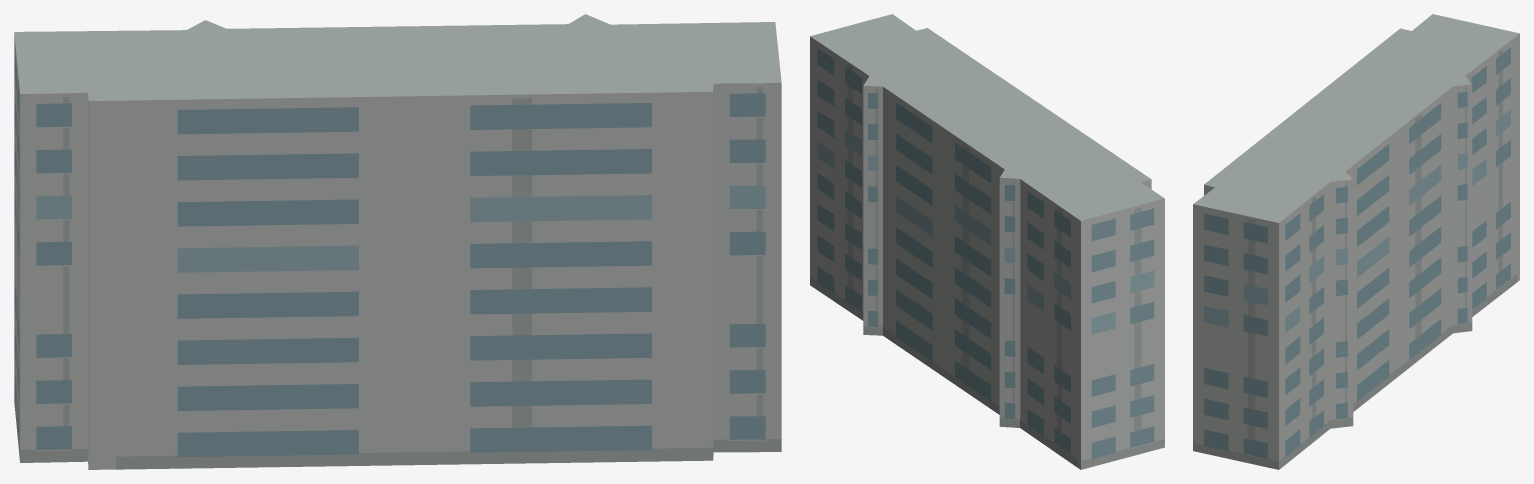
Rendered from survey-upis-32851684.glb.
The picture shows the model from 3 angles, left to right: view 1: azimuth 30°, elevation 25°; view 2: azimuth 150°, elevation 25°; view 3: azimuth 270°, elevation 25°; orthographic projection. The views are drawn at different scales.
Parts seen in each view (by area): view 1: survey-upis-32851684.tmp; view 2: survey-upis-32851684.tmp; view 3: survey-upis-32851684.tmp.
Boxes of the visible parts, <box> form: survey-upis-32851684.tmp: <box>14,14,781,469</box>; survey-upis-32851684.tmp: <box>810,14,1164,469</box>; survey-upis-32851684.tmp: <box>1193,14,1519,469</box>.
Size of the model in its own units: 44.34 by 24.4 by 29.29.
